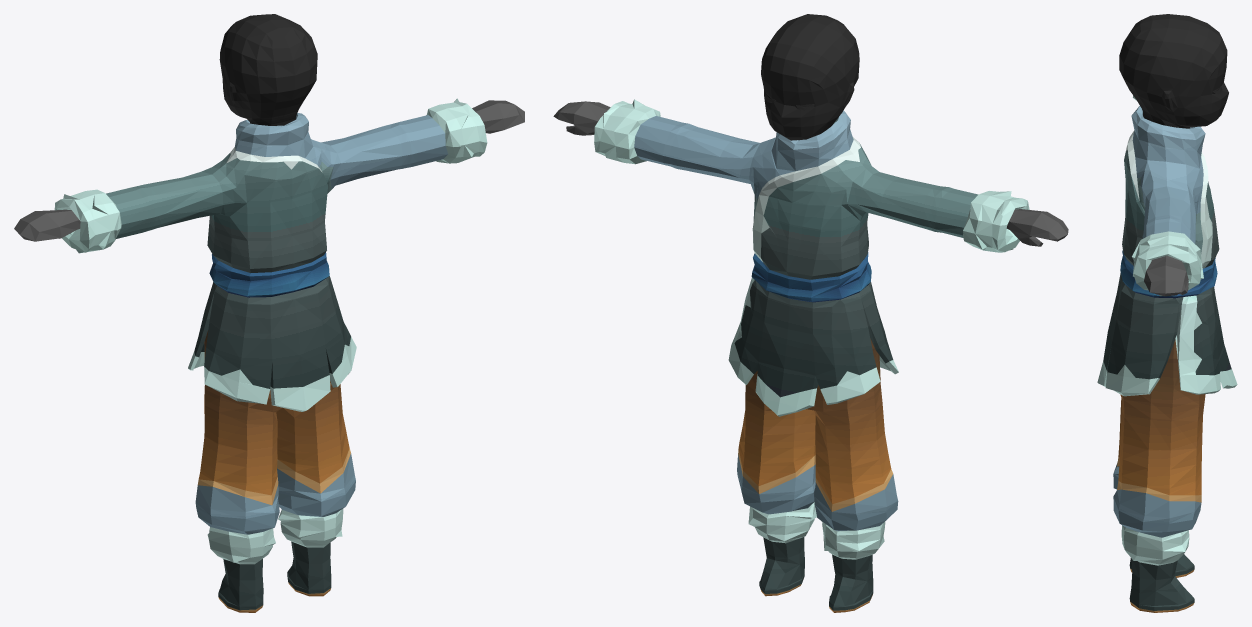
File: CharSkyKid_Body_AP12DarkTunic_01.glb
3 renders of one model, left to right at view 1: azimuth 30°, elevation 25°; view 2: azimuth 150°, elevation 25°; view 3: azimuth 270°, elevation 25°, orthographic.
Parts seen in each view (by area): view 1: CharSkyKid_Body_AP12DarkTunic_01; view 2: CharSkyKid_Body_AP12DarkTunic_01; view 3: CharSkyKid_Body_AP12DarkTunic_01.
Boxes of the visible parts, left/top/right/bottom form: CharSkyKid_Body_AP12DarkTunic_01: left=14, top=14, right=524, bottom=612; CharSkyKid_Body_AP12DarkTunic_01: left=553, top=14, right=1068, bottom=612; CharSkyKid_Body_AP12DarkTunic_01: left=1097, top=14, right=1237, bottom=612.
Bounding box in the file's own units: 13.86 × 14.96 × 3.33.
Materials: 1 (1 with a texture image).
